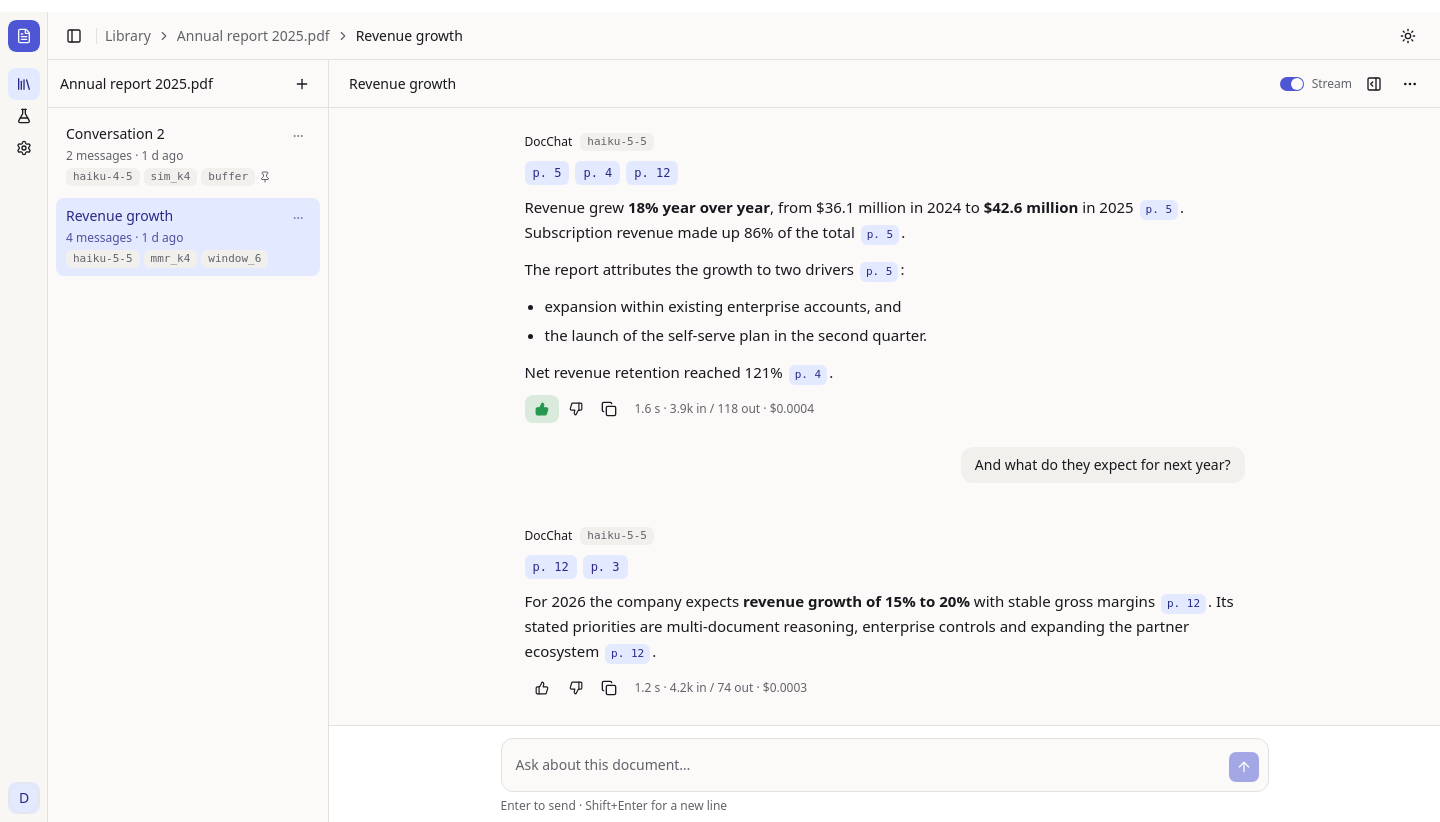
Test: workspace › renames a conversation inline
(page scrolled)
Click the button named "Actions for Revenue growth" at (298, 218), box [286,206,310,230]
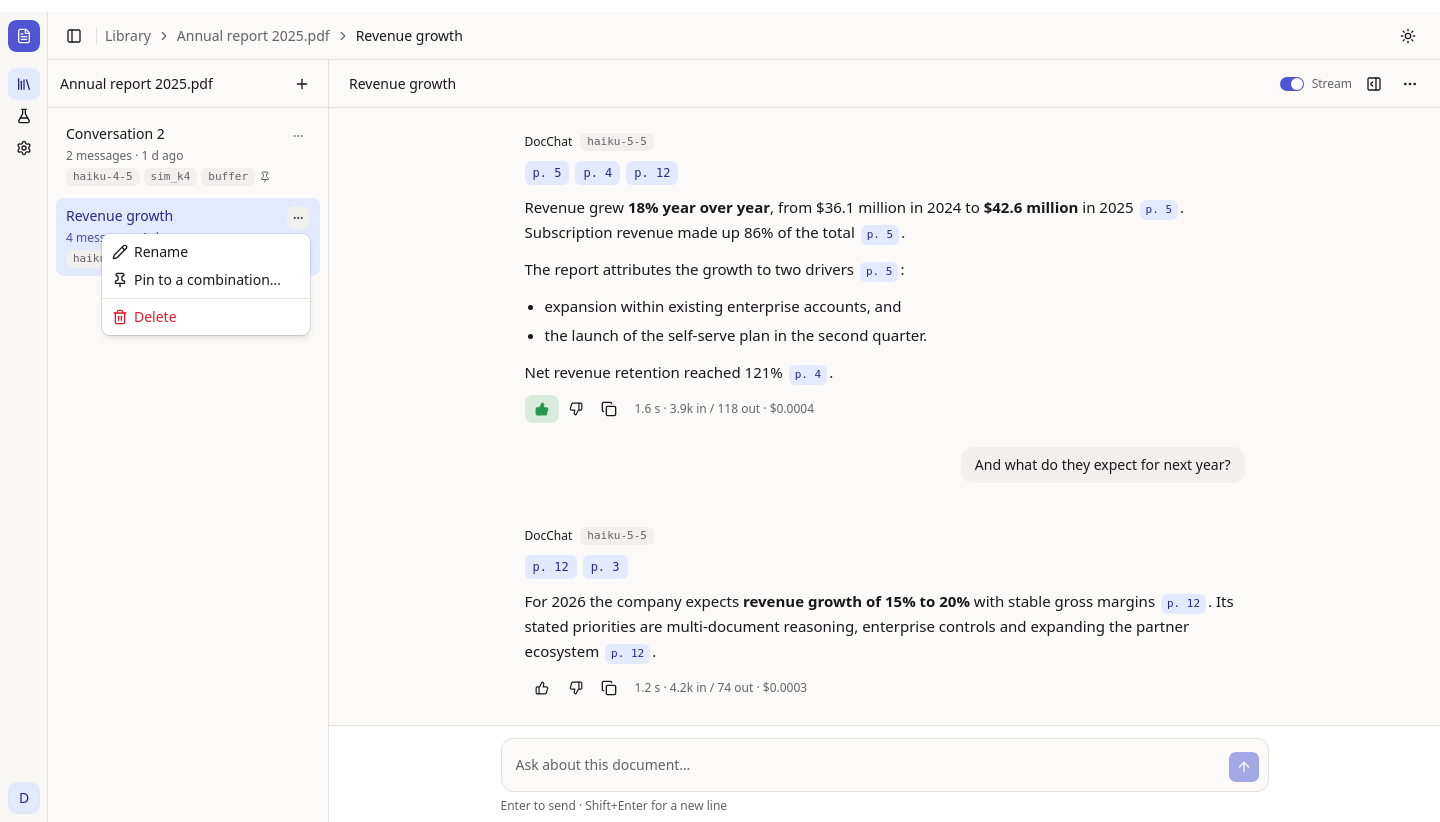
Click the menu item "Rename" at (150, 252), box [112,242,188,261]
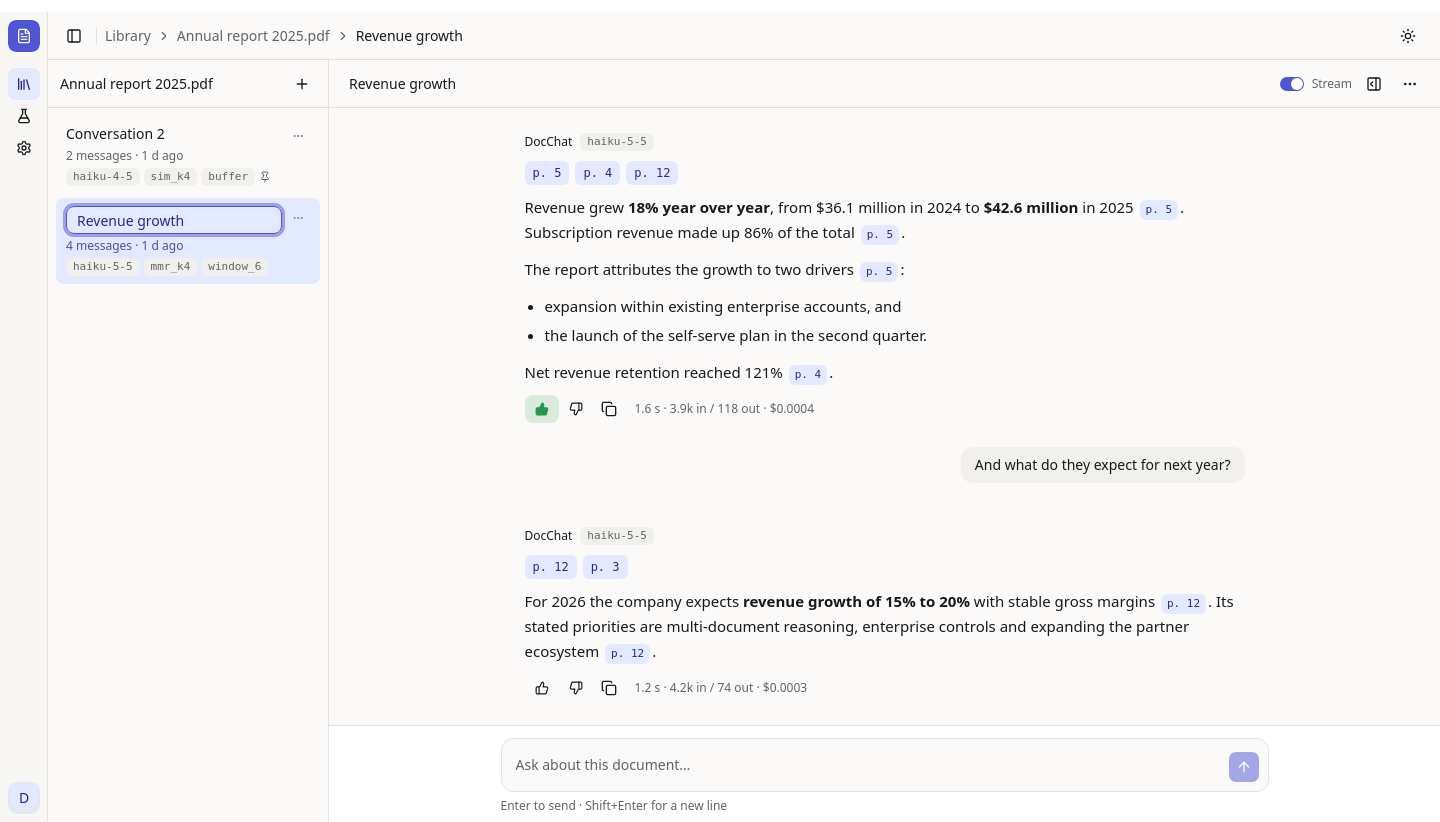
Replace the text in the field named "Conversation title" with "2025 revenue" at (174, 220), box [66,206,282,234]
Then press Enter
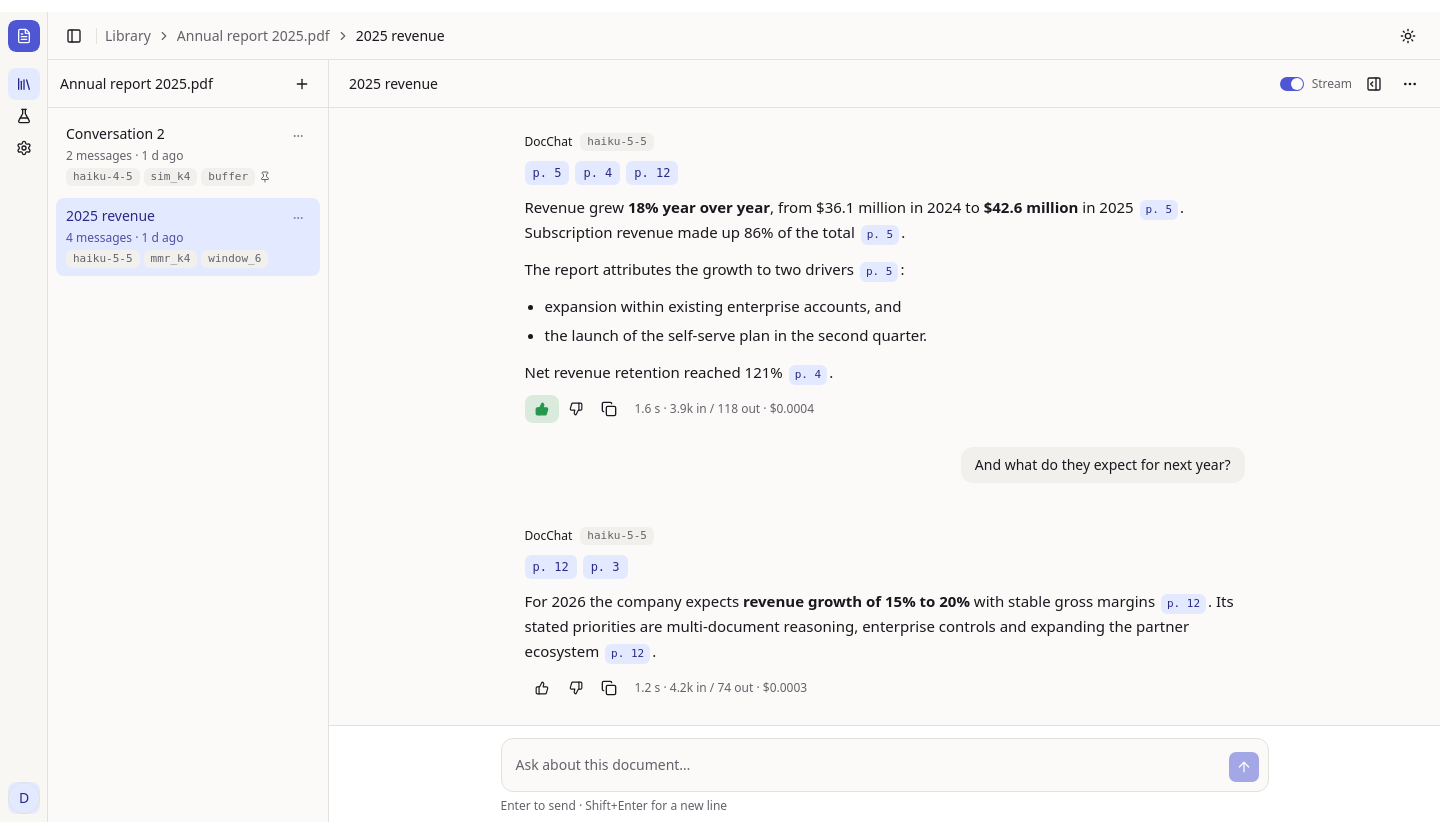
Result: the button "2025 revenue" below "haiku-4-5" is shown at [66,206,282,226]
